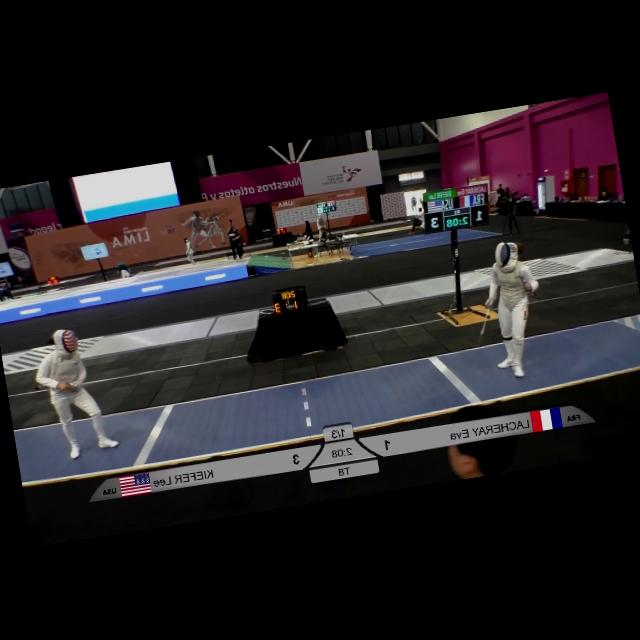blade: (23, 377, 78, 413), (468, 300, 504, 352)
